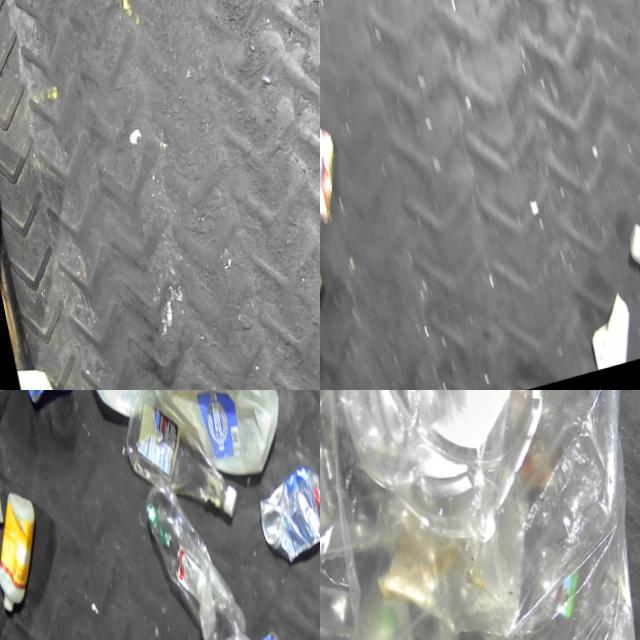can: (250, 467, 320, 575), (320, 110, 348, 236), (19, 390, 79, 406)
milk_jug: (134, 390, 292, 505), (80, 390, 172, 431), (16, 358, 85, 390)
plastic_bottle: (114, 390, 241, 546), (140, 471, 248, 640)
